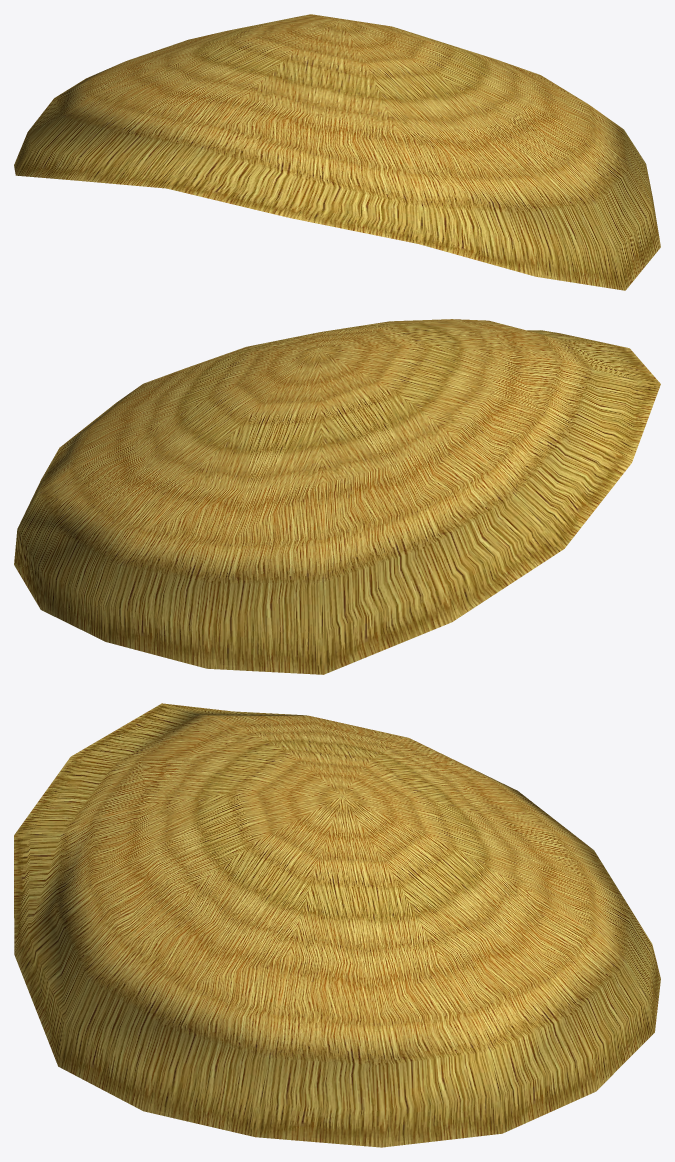
File: HTOWN01_HANNA-ROOF01.fbx
3 renders of one model, top to bottom at view 1: azimuth 30°, elevation 25°; view 2: azimuth 150°, elevation 25°; view 3: azimuth 270°, elevation 25°, orthographic. The views are drawn at different scales.
Parts seen in each view (by area): view 1: HTOWN01_HANNA-ROOF01; view 2: HTOWN01_HANNA-ROOF01; view 3: HTOWN01_HANNA-ROOF01.
Part boxes in pixels (bbox=[...]): HTOWN01_HANNA-ROOF01: bbox=[14, 14, 660, 290]; HTOWN01_HANNA-ROOF01: bbox=[14, 319, 660, 674]; HTOWN01_HANNA-ROOF01: bbox=[14, 703, 660, 1147].
Bounding box in the file's own units: 76501 × 29225 × 75494.
2 materials, 2 textured.
